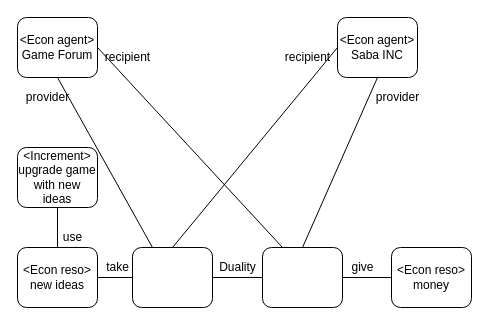
Some shapes in this 489 by 325 pixel diagram are drawn without their labels. Here are the shapes that lost their labels. From the top down, the centre of each, then its label:
At (172,277): "<Increment> Innovation game idea".
At (302,277): "<Decrement> pay for innovation ideas".
